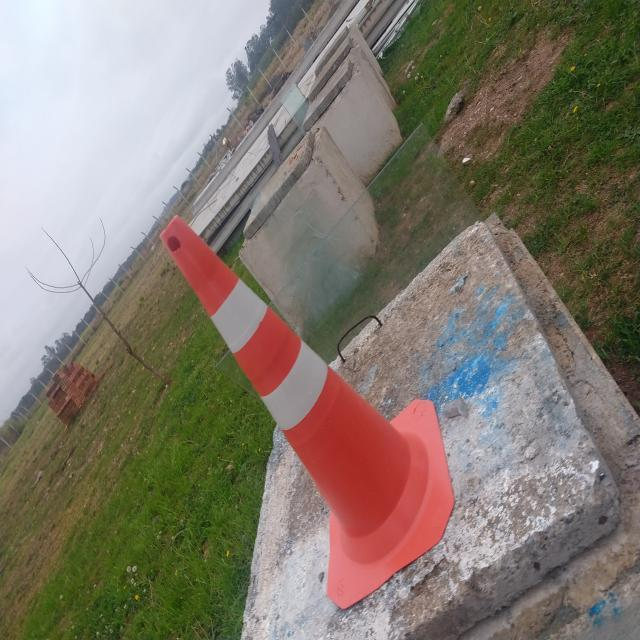traffic cone: (157, 215, 456, 611)
